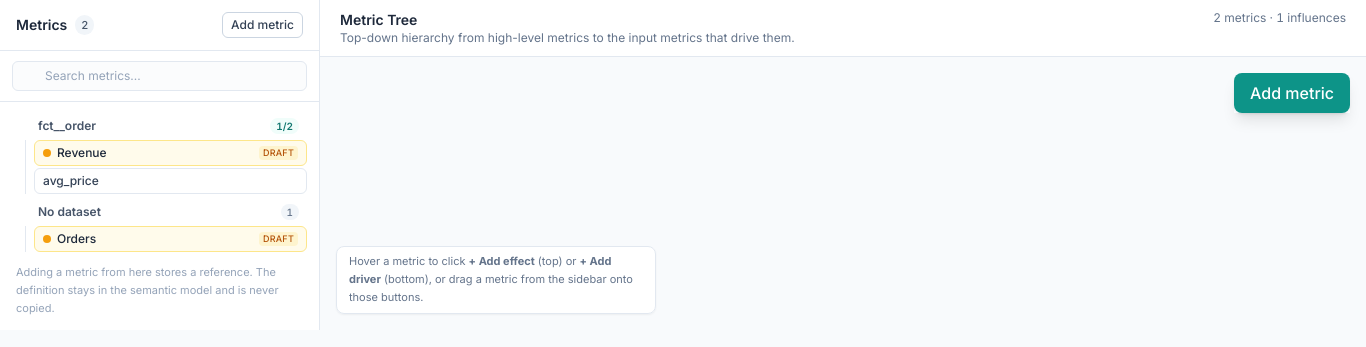
metrics-tree page › saves an edit without remounting the canvas or moving a node
Open the draft in the inspector and change its label.
Click the button with test id "metric-sidebar-select" showing "Revenue": (149,153) [43,145,255,161]
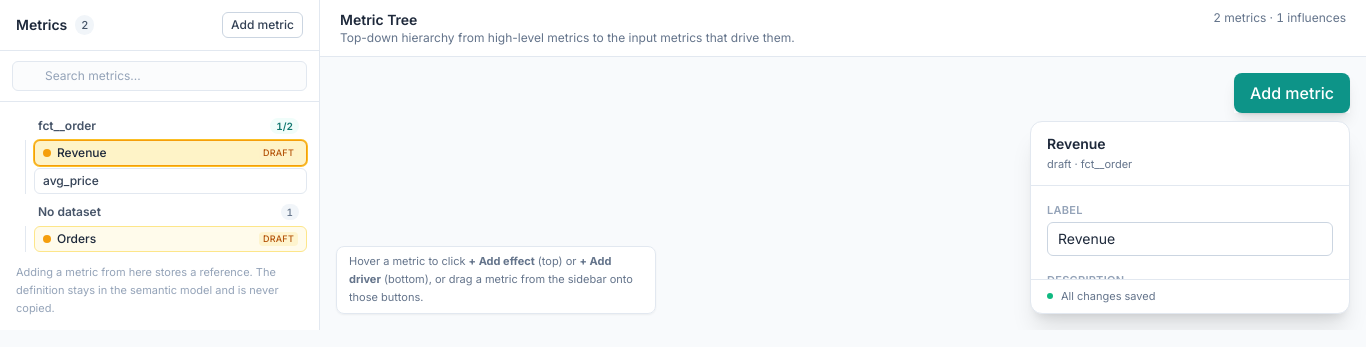
Now the field with test id "metric-field-label" is shown
Replace the text in the field with test id "metric-field-label" with "Booked revenue": (1190,239) [1047,222,1333,256]
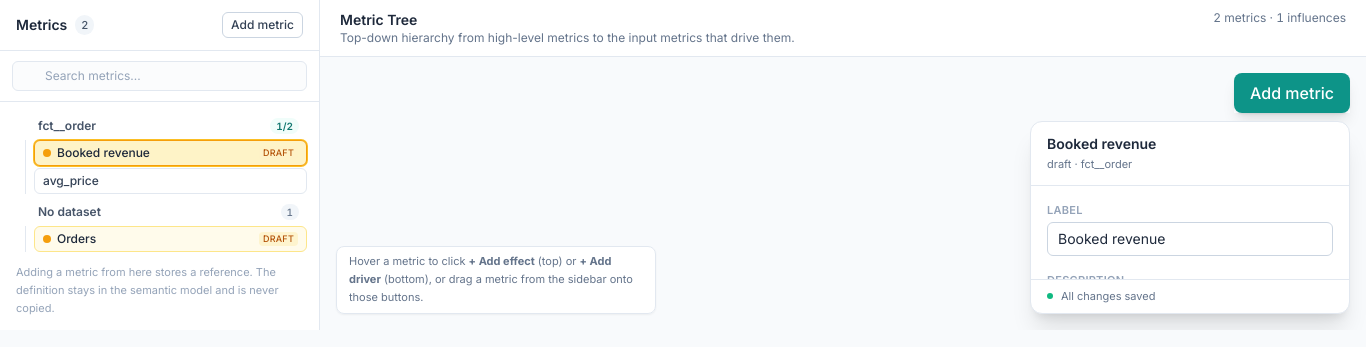
Now the 1st text "Booked revenue" is shown, box [57,145,150,160]
